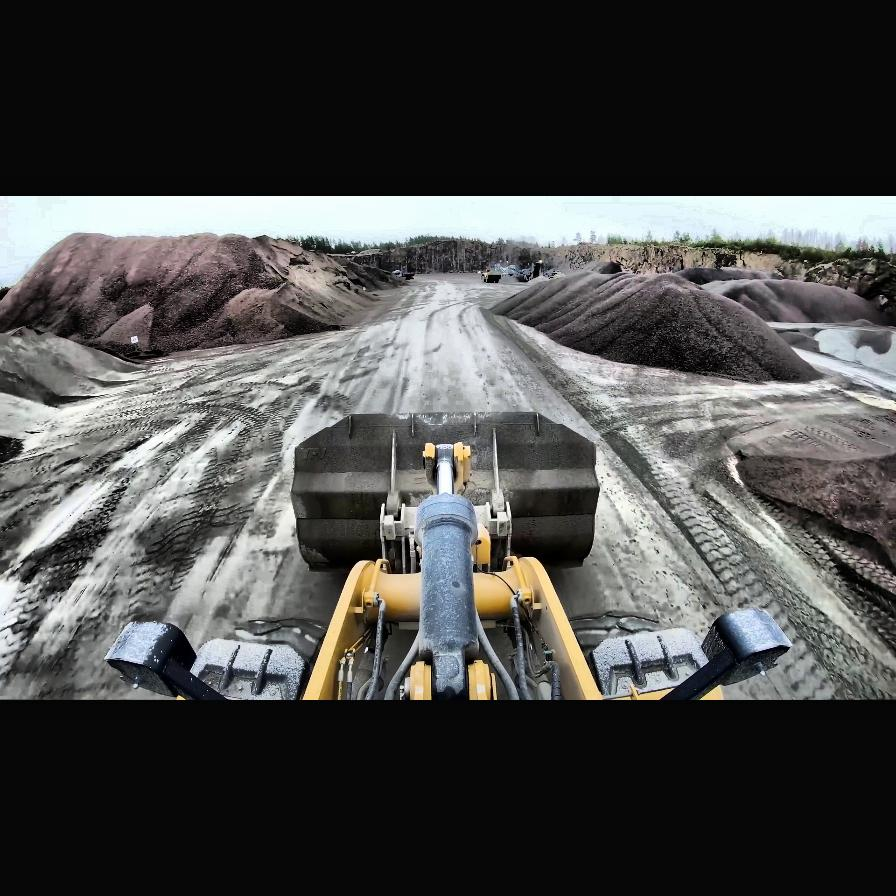anchor: (424, 442, 470, 496)
pile of gravel: (0, 229, 384, 362), (486, 268, 816, 384), (734, 449, 896, 588), (661, 271, 893, 331), (0, 327, 154, 405), (670, 266, 786, 286)
